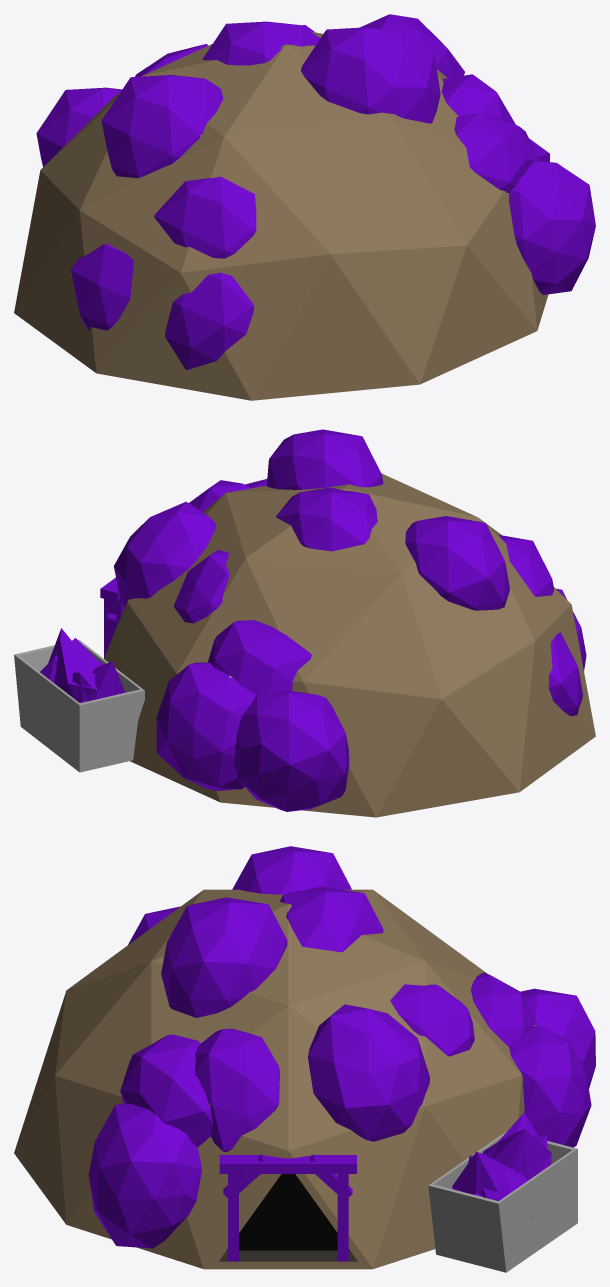
The model's file is Mine.fbx.
The picture shows the model from 3 angles, top to bottom: view 1: azimuth 30°, elevation 25°; view 2: azimuth 150°, elevation 25°; view 3: azimuth 270°, elevation 25°; orthographic projection. The views are drawn at different scales.
Visible parts, largest first — view 1: Icosphere; view 2: Icosphere; view 3: Icosphere.
Part boxes in pixels (x1,y1,x2,y2): Icosphere: [14, 14, 595, 400]; Icosphere: [14, 429, 595, 817]; Icosphere: [14, 846, 595, 1272].
Bounding box in the file's own units: 105 × 57.61 × 106.
